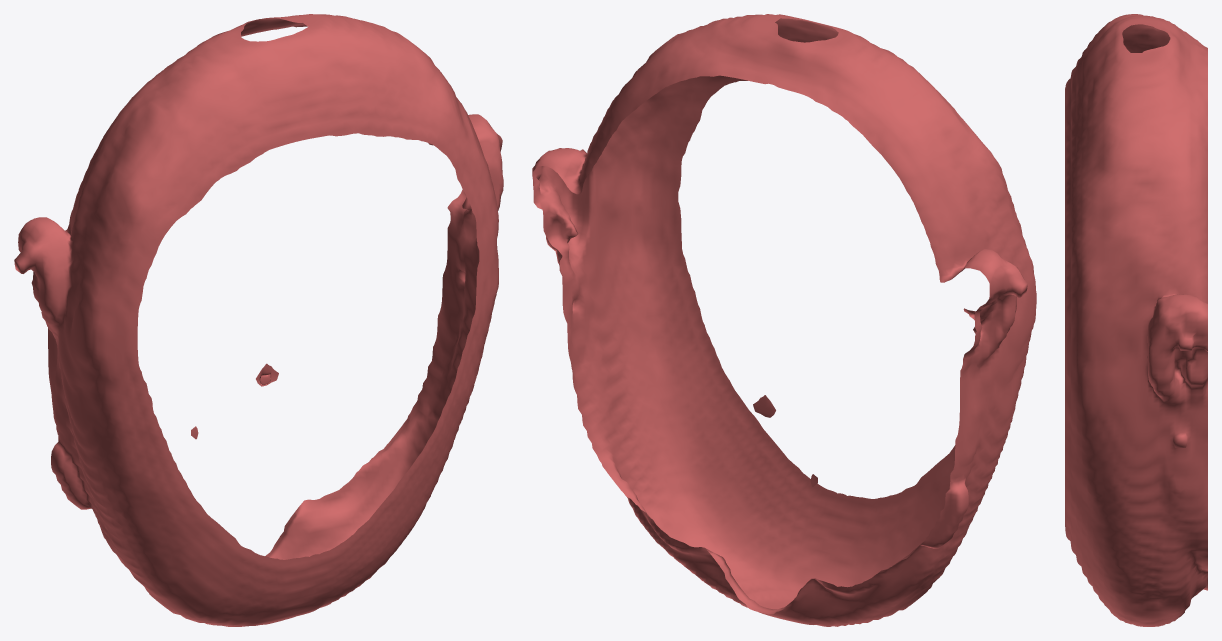
The model's file is skinMRI.obj.
3 views of the same model, side by side, from view 1: azimuth 30°, elevation 25°; view 2: azimuth 150°, elevation 25°; view 3: azimuth 270°, elevation 25° (orthographic). The views are drawn at different scales.
Visible parts, largest first — view 1: skin; view 2: skin; view 3: skin.
Part boxes in pixels (x1,y1,x2,y2): skin: (14,14,503,626); skin: (532,14,1036,626); skin: (1065,14,1207,626).
Size of the model in its own units: 98.3 by 113 by 26.
